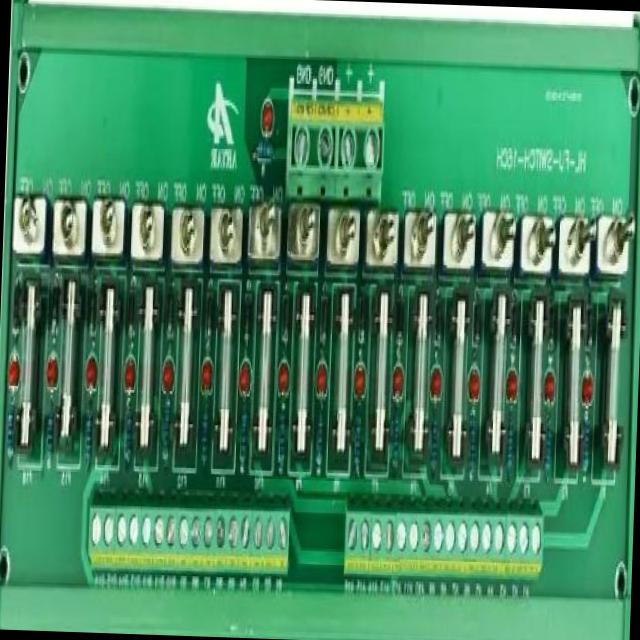LED: (260, 92, 274, 144), (274, 352, 290, 397), (429, 362, 444, 407), (352, 360, 368, 402), (238, 352, 253, 396), (162, 353, 176, 399), (122, 353, 138, 393), (467, 364, 482, 406), (200, 359, 216, 394), (315, 352, 328, 395), (84, 348, 97, 388), (392, 361, 404, 404), (46, 346, 58, 388), (8, 350, 20, 390), (504, 370, 516, 406), (582, 370, 595, 400), (546, 376, 555, 400)
connector: (338, 498, 549, 634), (82, 487, 294, 620), (280, 71, 388, 197)
diode: (204, 278, 215, 354), (242, 278, 254, 344), (547, 298, 560, 358), (508, 287, 520, 350), (472, 290, 484, 349), (356, 287, 368, 345), (282, 278, 292, 346), (88, 278, 100, 334), (51, 278, 62, 334), (434, 292, 444, 352), (319, 284, 329, 344), (13, 272, 23, 332), (586, 294, 595, 358), (396, 294, 408, 340), (128, 280, 136, 332), (167, 284, 174, 336)
resistor: (120, 394, 139, 472), (80, 398, 96, 466), (160, 394, 176, 458), (4, 392, 16, 470), (196, 402, 210, 467), (40, 414, 55, 472), (238, 406, 250, 472), (274, 410, 287, 470), (314, 406, 326, 469), (580, 421, 592, 477), (504, 423, 518, 470), (390, 412, 402, 462), (467, 414, 478, 468), (352, 418, 363, 469), (543, 424, 554, 464), (429, 418, 438, 461)
